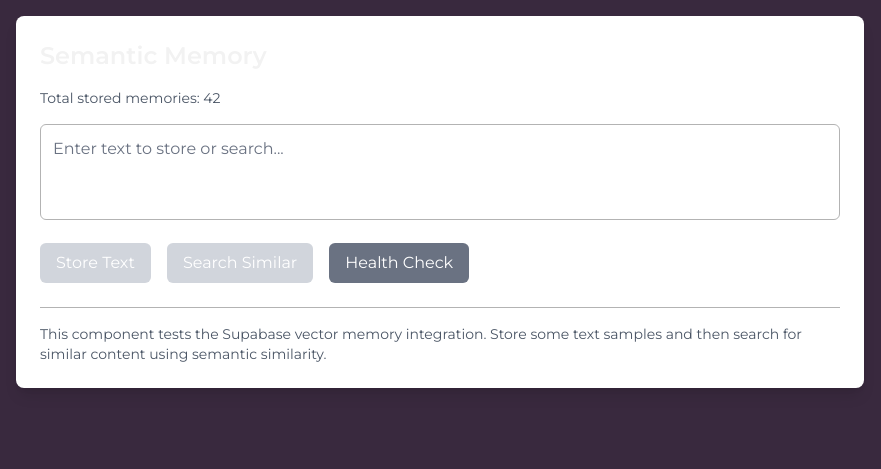
Test: VectorMemory › store functionality › should show success message after store
The width and height of the screenshot is (881, 469).
Type "Test memory" into the text box with placeholder "Enter text to store or search...". click: (440,172)
box: [40,124,840,220]
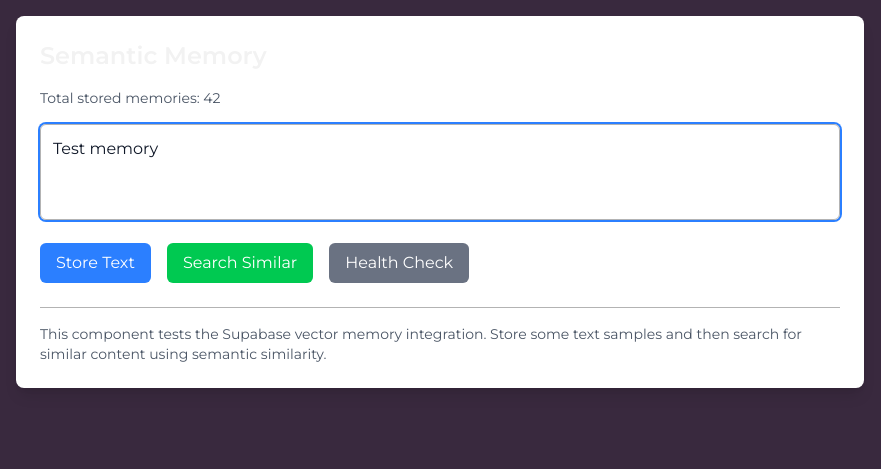
Click the button "Store Text". click: (95,263)
box: [40,243,151,283]
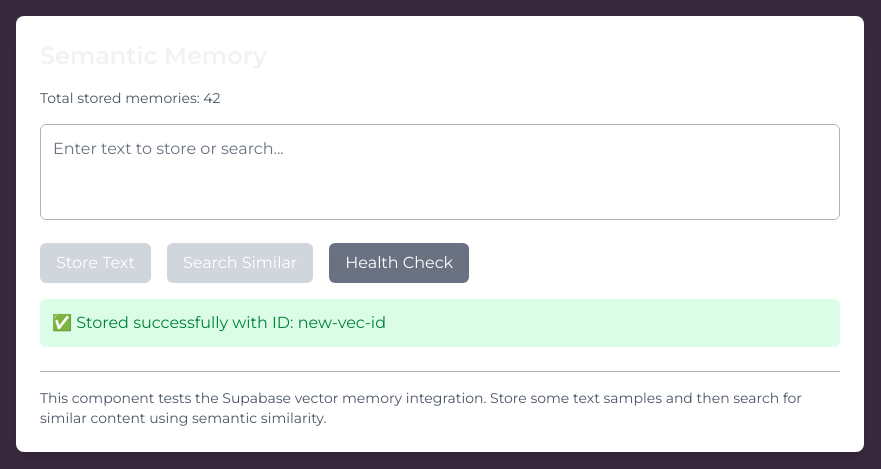
Expected: the text "✅ Stored successfully with ID: new-vec-id" is shown, [40,299,840,347]
